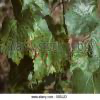grape leaf black rot: (29, 19, 71, 85), (0, 10, 34, 64), (63, 0, 99, 37)
